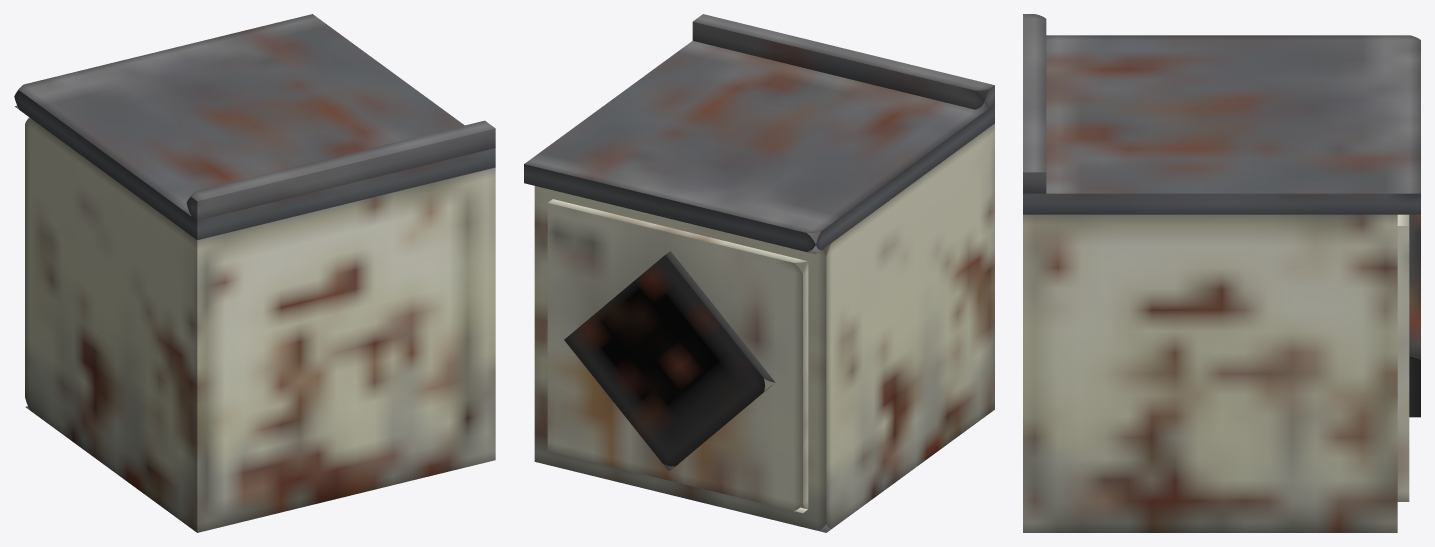
File: washing_machine.obj
3 views of the same model, side by side, from view 1: azimuth 30°, elevation 25°; view 2: azimuth 150°, elevation 25°; view 3: azimuth 270°, elevation 25° (orthographic). The views are drawn at different scales.
Parts seen in each view (by area): view 1: nx, ny, nB; view 2: nx, ny, nz, nA, nB; view 3: nx, ny, nB, nz, nA.
Boxes of the visible parts, x1,y1,x2,y2 form: nx: (25,117,495,532); ny: (14,14,495,239); nB: (186,120,495,220); nx: (534,123,994,532); ny: (524,41,994,254); nz: (547,199,808,513); nA: (564,251,775,470); nB: (692,14,994,109); nx: (1023,214,1397,532); ny: (1023,35,1420,214); nB: (1023,14,1046,193); nz: (1397,214,1409,501); nA: (1409,214,1420,417).
Size of the model in its own units: 1 by 1.06 by 1.06.
Materials: 1 (1 with a texture image).
